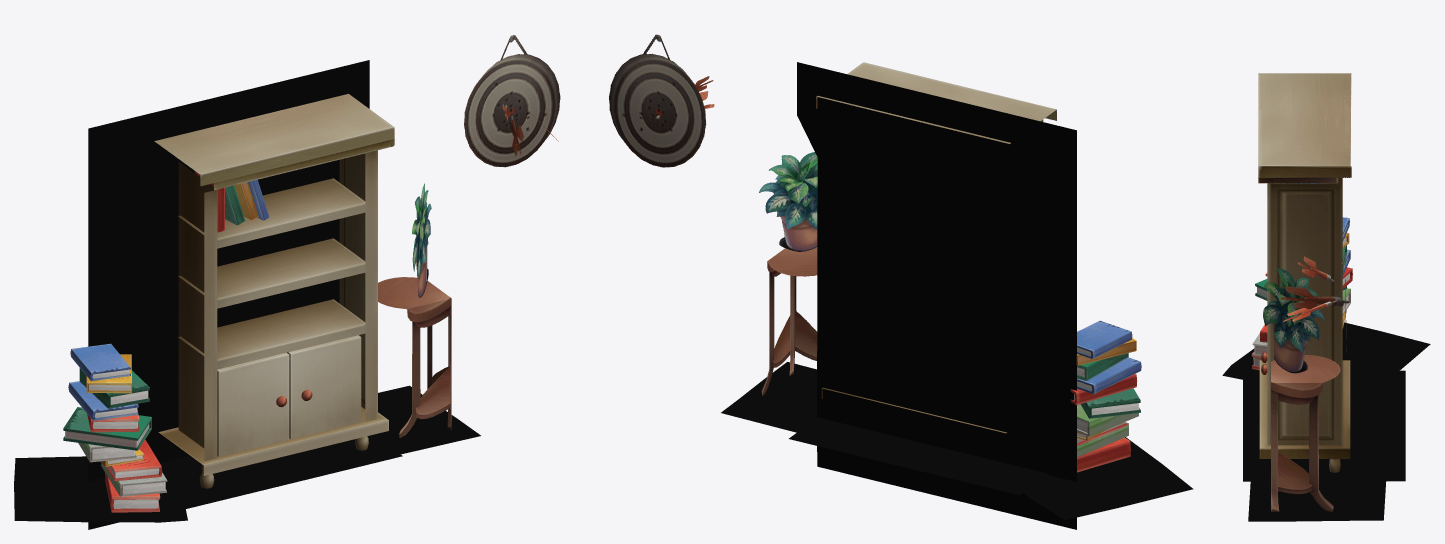
Rendered from K1_oldcabinet3.FBX.
3 renders of one model, left to right at view 1: azimuth 30°, elevation 25°; view 2: azimuth 150°, elevation 25°; view 3: azimuth 270°, elevation 25°, orthographic. The views are drawn at different scales.
Parts seen in each view (by area): view 1: cabinet1, cabinet1_1_04_yy, biaopan_00, cabinet1_1_09_yy, YHT_old_book_10_yy, cabinet1_2, cabinet1_2_yy, YHT_old_book_05, YHT_old_book_00, oldcabinet005, YHT_old_book_03, YHT_old_book_08 (+6 smaller); view 2: cabinet1_1_04_yy, biaopan_00, cabinet1_1_09_yy, YHT_old_book_10_yy, cabinet1, oldcabinet005, cabinet1_2_yy, cabinet1_2, YHT_old_book_00, YHT_old_book_05, YHT_old_book_03, YHT_old_book_10 (+2 smaller); view 3: cabinet1, cabinet1_1_09_yy, cabinet1_2, cabinet1_2_yy, YHT_old_book_10_yy, oldcabinet005, biaopan_02, biaopan_01, biaopan_03.
Part boxes in pixels (x1,y1,x2,y2): cabinet1: (154,94,394,488); cabinet1_1_04_yy: (88,60,369,529); biaopan_00: (464,35,560,167); cabinet1_1_09_yy: (158,434,402,512); YHT_old_book_10_yy: (14,456,187,522); cabinet1_2: (378,277,451,437); cabinet1_2_yy: (374,385,480,454); YHT_old_book_05: (63,407,151,450); YHT_old_book_00: (70,343,130,381); oldcabinet005: (412,183,431,297); YHT_old_book_03: (68,381,138,420); YHT_old_book_08: (106,439,162,481); cabinet1_1_04_yy: (797,62,1076,529); biaopan_00: (609,34,706,167); cabinet1_1_09_yy: (789,417,1048,495); YHT_old_book_10_yy: (1023,437,1193,520); cabinet1: (816,62,1056,433); oldcabinet005: (759,152,817,251); cabinet1_2_yy: (721,362,816,432); cabinet1_2: (761,247,817,395); YHT_old_book_00: (1077,320,1132,358); YHT_old_book_05: (1080,388,1140,418); YHT_old_book_03: (1077,357,1141,394); YHT_old_book_10: (1077,437,1130,472); cabinet1: (1258,73,1351,472); cabinet1_1_09_yy: (1243,370,1405,481); cabinet1_2: (1271,355,1340,511); cabinet1_2_yy: (1248,481,1386,521); YHT_old_book_10_yy: (1222,322,1430,379); oldcabinet005: (1263,268,1324,373); biaopan_02: (1281,286,1349,309); biaopan_01: (1297,256,1334,281); biaopan_03: (1283,300,1336,321).
Bounding box in the file's own units: 4.06 × 2.71 × 1.3.
